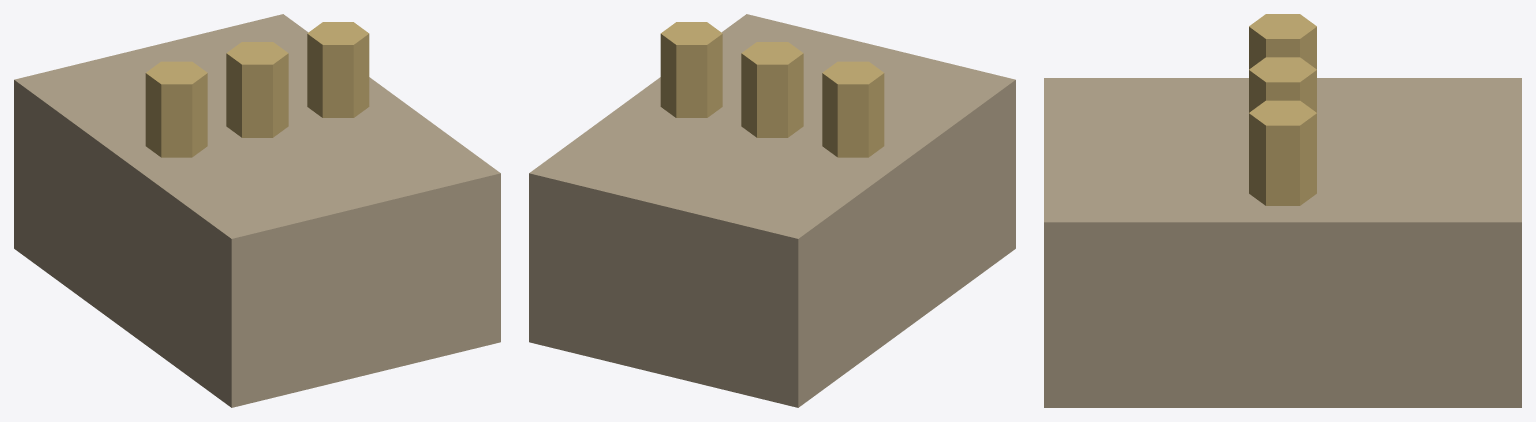
The model's file is ammo-revolver.3b50660f.glb.
The picture shows the model from 3 angles, left to right: view 1: azimuth 30°, elevation 25°; view 2: azimuth 150°, elevation 25°; view 3: azimuth 270°, elevation 25°; orthographic projection. The views are drawn at different scales.
Visible parts, largest first — view 1: ammo-revolver-box, ammo-revolver-round-0, ammo-revolver-round-2, ammo-revolver-round-1; view 2: ammo-revolver-box, ammo-revolver-round-0, ammo-revolver-round-2, ammo-revolver-round-1; view 3: ammo-revolver-box, ammo-revolver-round-2, ammo-revolver-round-0, ammo-revolver-round-1.
Part boxes in pixels (box(x1,y1,x2,y2)): ammo-revolver-box: box(14, 14, 500, 407); ammo-revolver-round-0: box(145, 61, 207, 157); ammo-revolver-round-2: box(307, 22, 369, 117); ammo-revolver-round-1: box(226, 42, 288, 137); ammo-revolver-box: box(529, 14, 1015, 407); ammo-revolver-round-0: box(822, 61, 884, 157); ammo-revolver-round-2: box(660, 22, 722, 117); ammo-revolver-round-1: box(741, 42, 803, 137); ammo-revolver-box: box(1044, 78, 1521, 407); ammo-revolver-round-2: box(1249, 100, 1316, 205); ammo-revolver-round-0: box(1249, 14, 1316, 69); ammo-revolver-round-1: box(1249, 57, 1316, 112).
Bounding box in the file's own units: 0.05 × 0.043 × 0.07.
